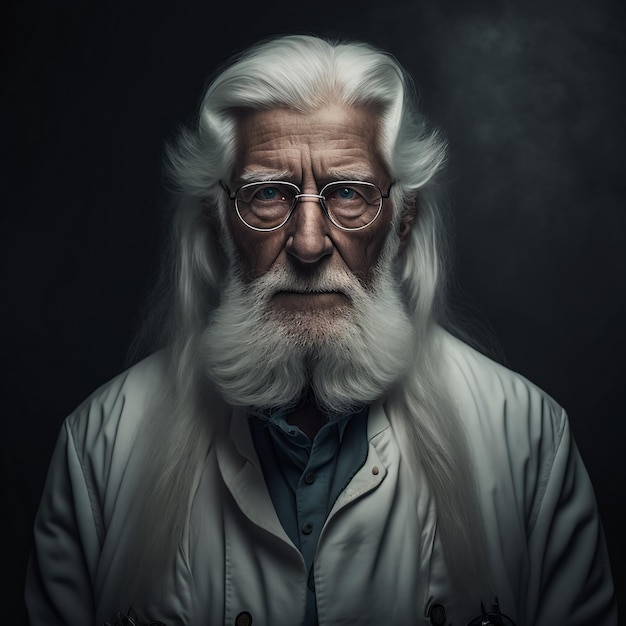young: (180, 51, 453, 389)
